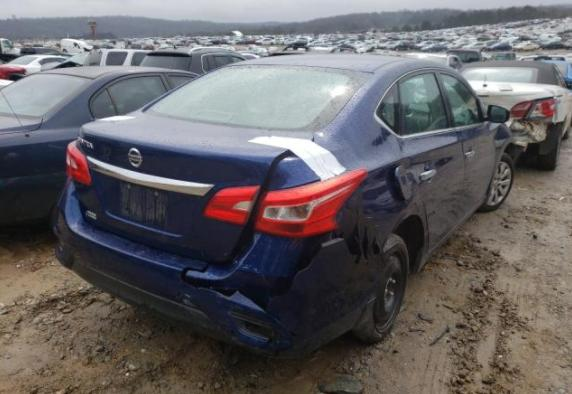Back-bumper: (54, 176, 385, 359)
Back-door: (396, 68, 465, 251)
Back-wheel: (328, 234, 410, 347)
Back-window: (400, 73, 448, 134), (377, 83, 399, 134)
Back-windshield: (144, 64, 374, 132)
Fender: (485, 121, 518, 197)
Front-door: (435, 68, 496, 225)
Front-wheel: (474, 152, 516, 215)
Front-window: (441, 74, 478, 126)
Mirror: (478, 104, 511, 124)
Quarter-panel: (266, 115, 429, 276)
Rocker-panel: (427, 194, 488, 261)
Roof: (222, 52, 418, 73)
Tail-light: (252, 168, 369, 237), (202, 186, 262, 227), (65, 139, 94, 188)
Trunk: (73, 110, 314, 263)
